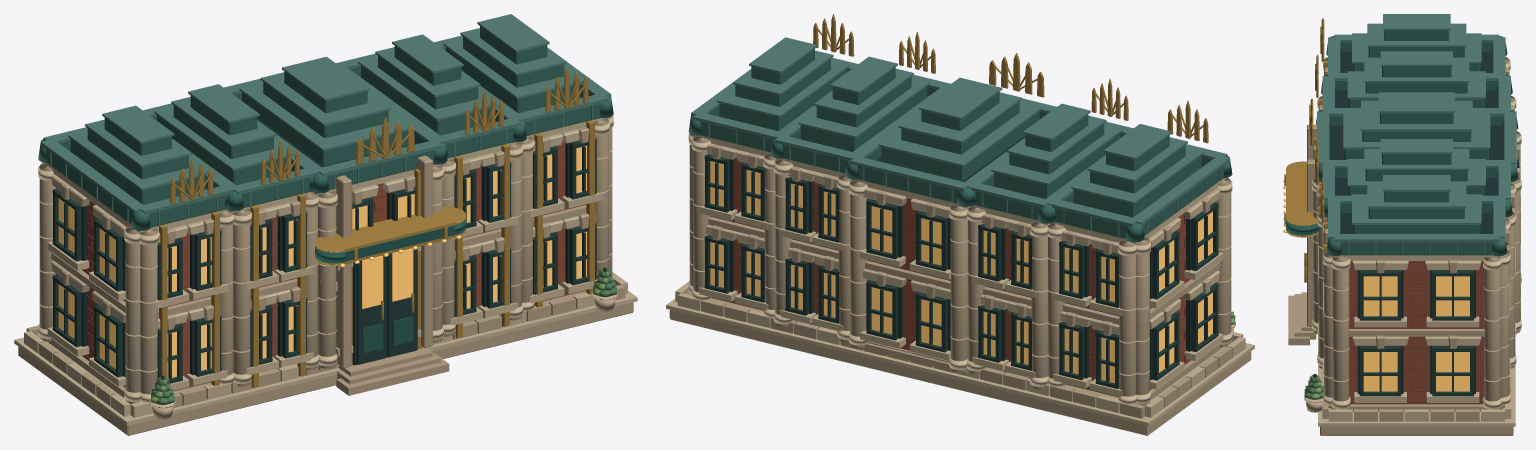
3 views of the same model, side by side, from view 1: azimuth 30°, elevation 25°; view 2: azimuth 150°, elevation 25°; view 3: azimuth 270°, elevation 25° (orthographic). The views are drawn at different scales.
Visible parts, largest first — view 1: expansion_skyscraper_1_geometry; view 2: expansion_skyscraper_1_geometry; view 3: expansion_skyscraper_1_geometry.
Part boxes in pixels (box(x1,y1,x2,y2)): expansion_skyscraper_1_geometry: box(14, 14, 637, 435); expansion_skyscraper_1_geometry: box(666, 14, 1254, 435); expansion_skyscraper_1_geometry: box(1283, 14, 1521, 435).
Bounding box in the file's own units: 2.22 × 1.08 × 1.02.
